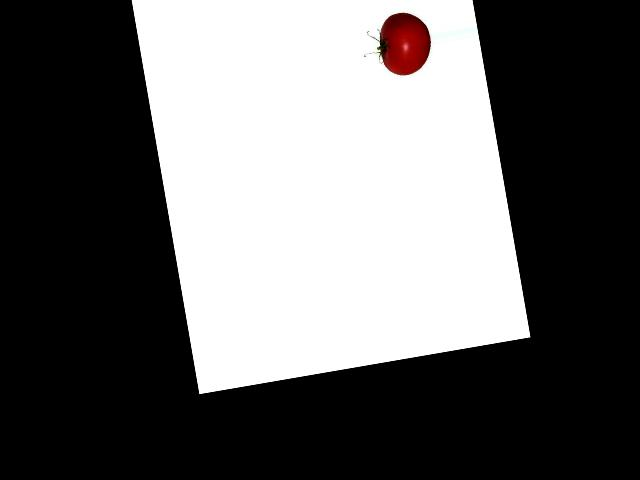tomato: (374, 9, 436, 79)
